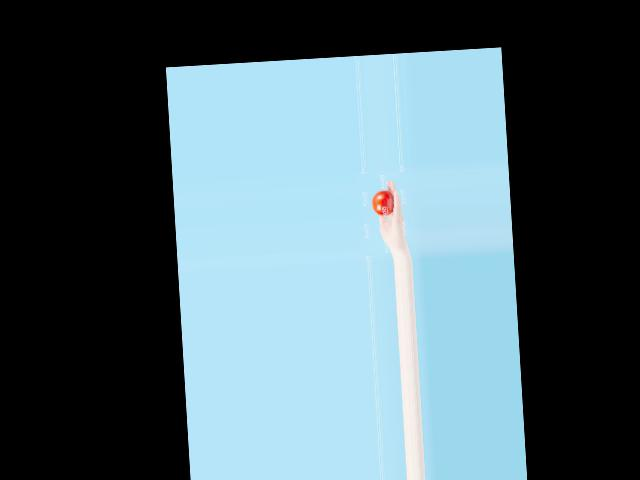tomato: (371, 189, 394, 216)
